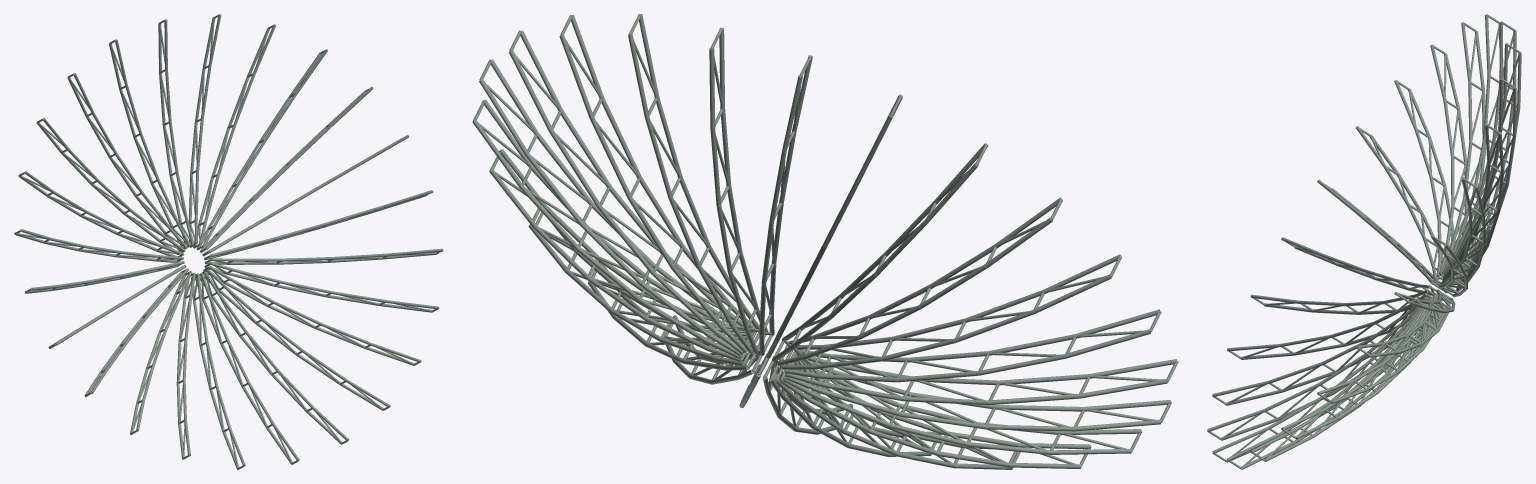
The model's file is Radial_Trusses.glb.
3 views of the same model, side by side, from view 1: azimuth 30°, elevation 25°; view 2: azimuth 150°, elevation 25°; view 3: azimuth 270°, elevation 25° (orthographic). The views are drawn at different scales.
Visible parts, largest first — view 1: Radial_Trusses; view 2: Radial_Trusses; view 3: Radial_Trusses.
Part boxes in pixels (x1,y1,x2,y2): Radial_Trusses: [14, 14, 443, 469]; Radial_Trusses: [472, 14, 1178, 469]; Radial_Trusses: [1207, 14, 1521, 469].
Bounding box in the file's own units: 23.7 × 19.87 × 14.25.
Materials: 1 (1 with a texture image).
